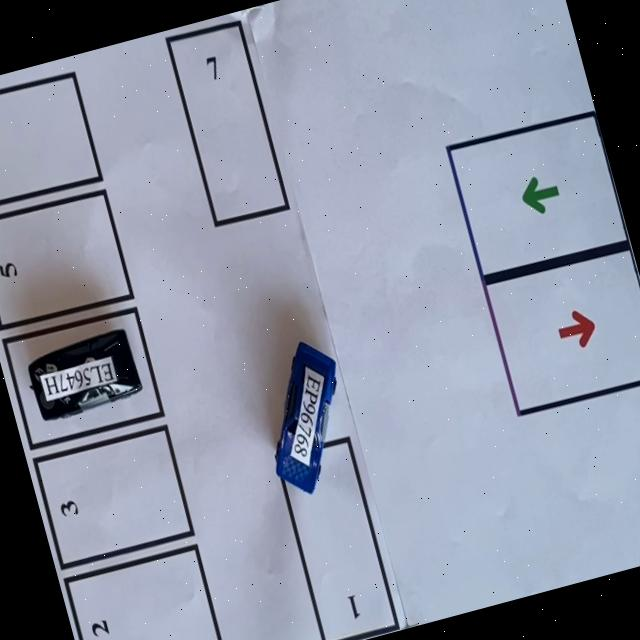car: (27, 328, 141, 420), (275, 341, 336, 493)
